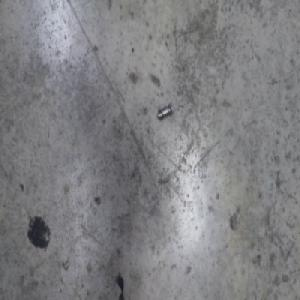Bolt: (156, 104, 172, 123)
